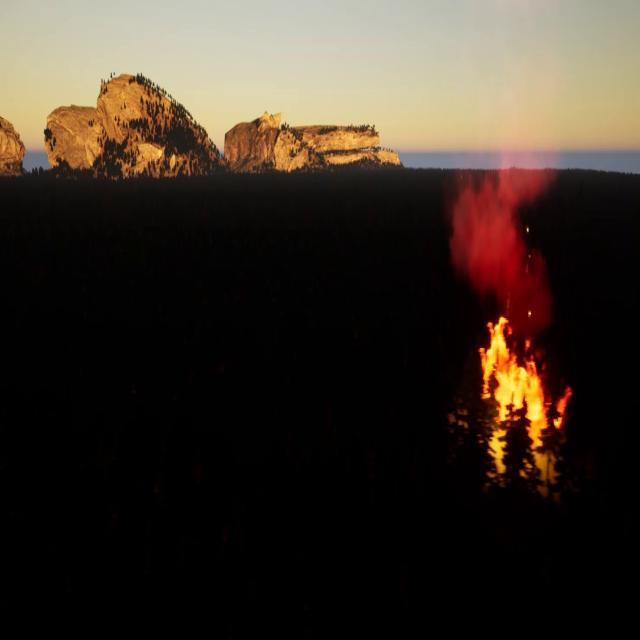fire: (477, 315, 570, 454)
smoke: (450, 128, 558, 320)
